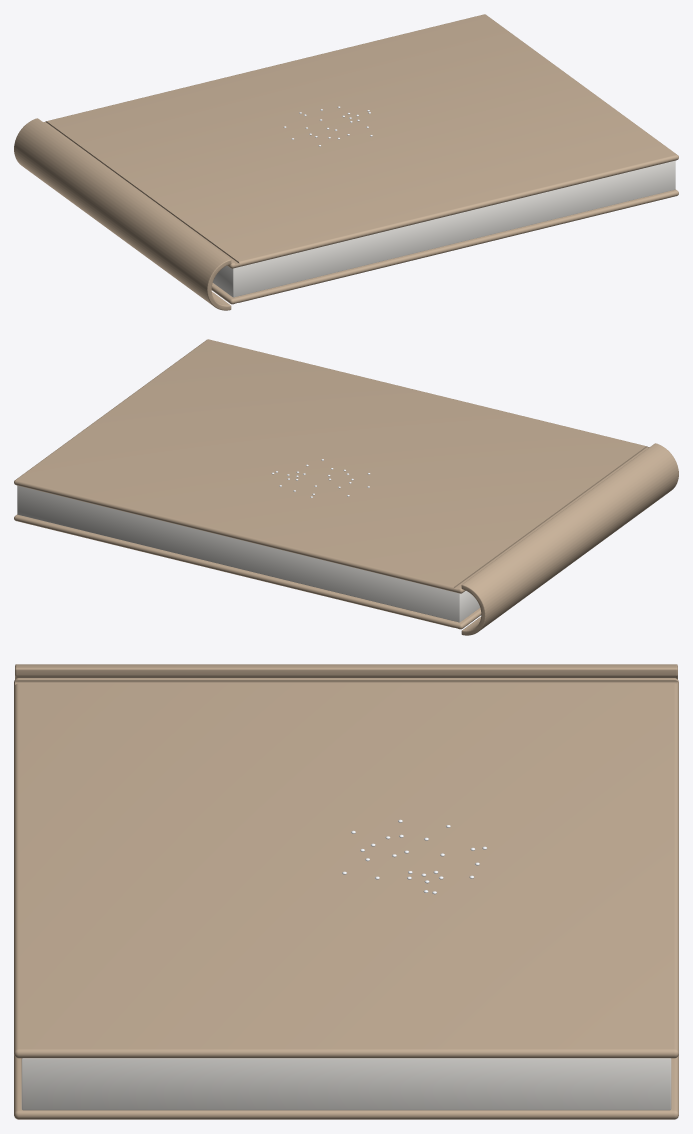
File: swarovski-cluster--landscape.glb
3 views of the same model, one above another, from view 1: azimuth 30°, elevation 25°; view 2: azimuth 150°, elevation 25°; view 3: azimuth 270°, elevation 25° (orthographic). The views are drawn at different scales.
Parts seen in each view (by area): view 1: CoverFront, Pages, Spine, CoverBack; view 2: CoverFront, Pages, Spine, CoverBack; view 3: CoverFront, Pages, Spine, CoverBack.
Boxes of the visible parts, box(x1,y1,x2,y2) form: CoverFront: box(43, 14, 678, 268); Pages: box(213, 160, 675, 297); Spine: box(14, 118, 231, 310); CoverBack: box(211, 189, 678, 304); CoverFront: box(14, 339, 649, 593); Pages: box(17, 485, 479, 622); Spine: box(461, 443, 678, 635); CoverBack: box(14, 514, 481, 629); CoverFront: box(14, 678, 678, 1058); Pages: box(21, 1058, 671, 1110); Spine: box(15, 664, 677, 679); CoverBack: box(14, 1055, 678, 1119).
Bounding box in the file's own units: 0.4208 × 0.043 × 0.3.
